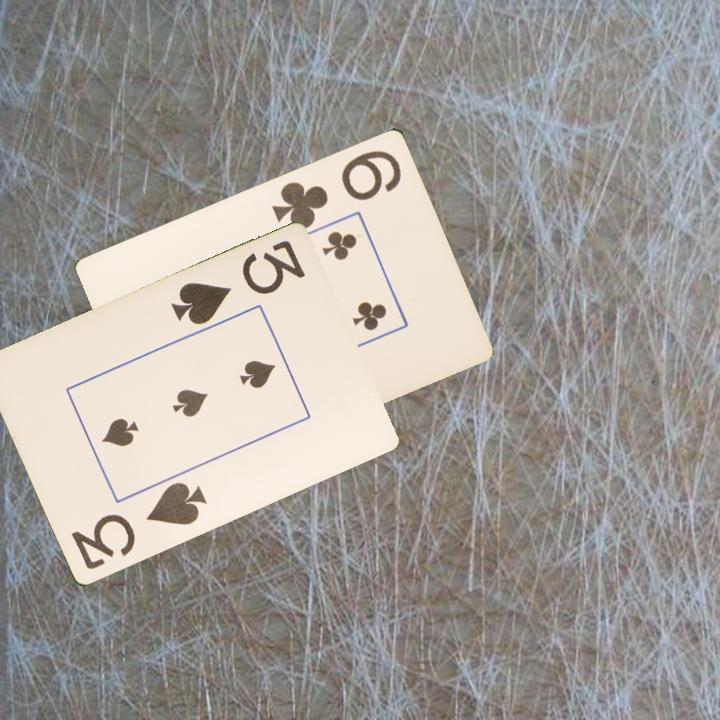3s: (67, 478, 210, 574), (167, 237, 308, 329)
6c: (268, 146, 405, 232)
